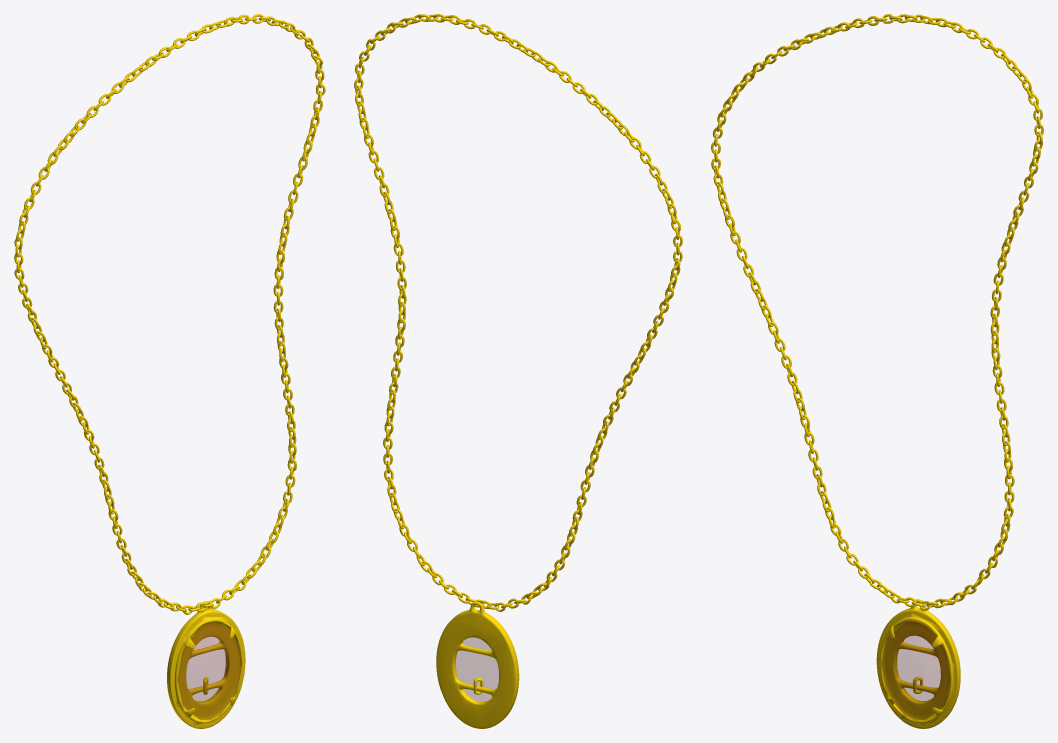
File: necklace.glb
3 views of the same model, side by side, from view 1: azimuth 30°, elevation 25°; view 2: azimuth 150°, elevation 25°; view 3: azimuth 330°, elevation 25° (orthographic).
Parts seen in each view (by area): view 1: Circle_M_Gold_0, Ruby_M_Gem_0; view 2: Circle_M_Gold_0, Ruby_M_Gem_0; view 3: Circle_M_Gold_0, Ruby_M_Gem_0.
Boxes of the visible parts, x1,y1,x2,y2 form: Circle_M_Gold_0: (14,14,325,728); Ruby_M_Gem_0: (178,623,241,719); Circle_M_Gold_0: (354,14,682,728); Ruby_M_Gem_0: (456,637,498,701); Circle_M_Gold_0: (711,14,1043,728); Ruby_M_Gem_0: (881,622,949,720).
Bounding box in the file's own units: 81.2 × 172 × 6.25.
